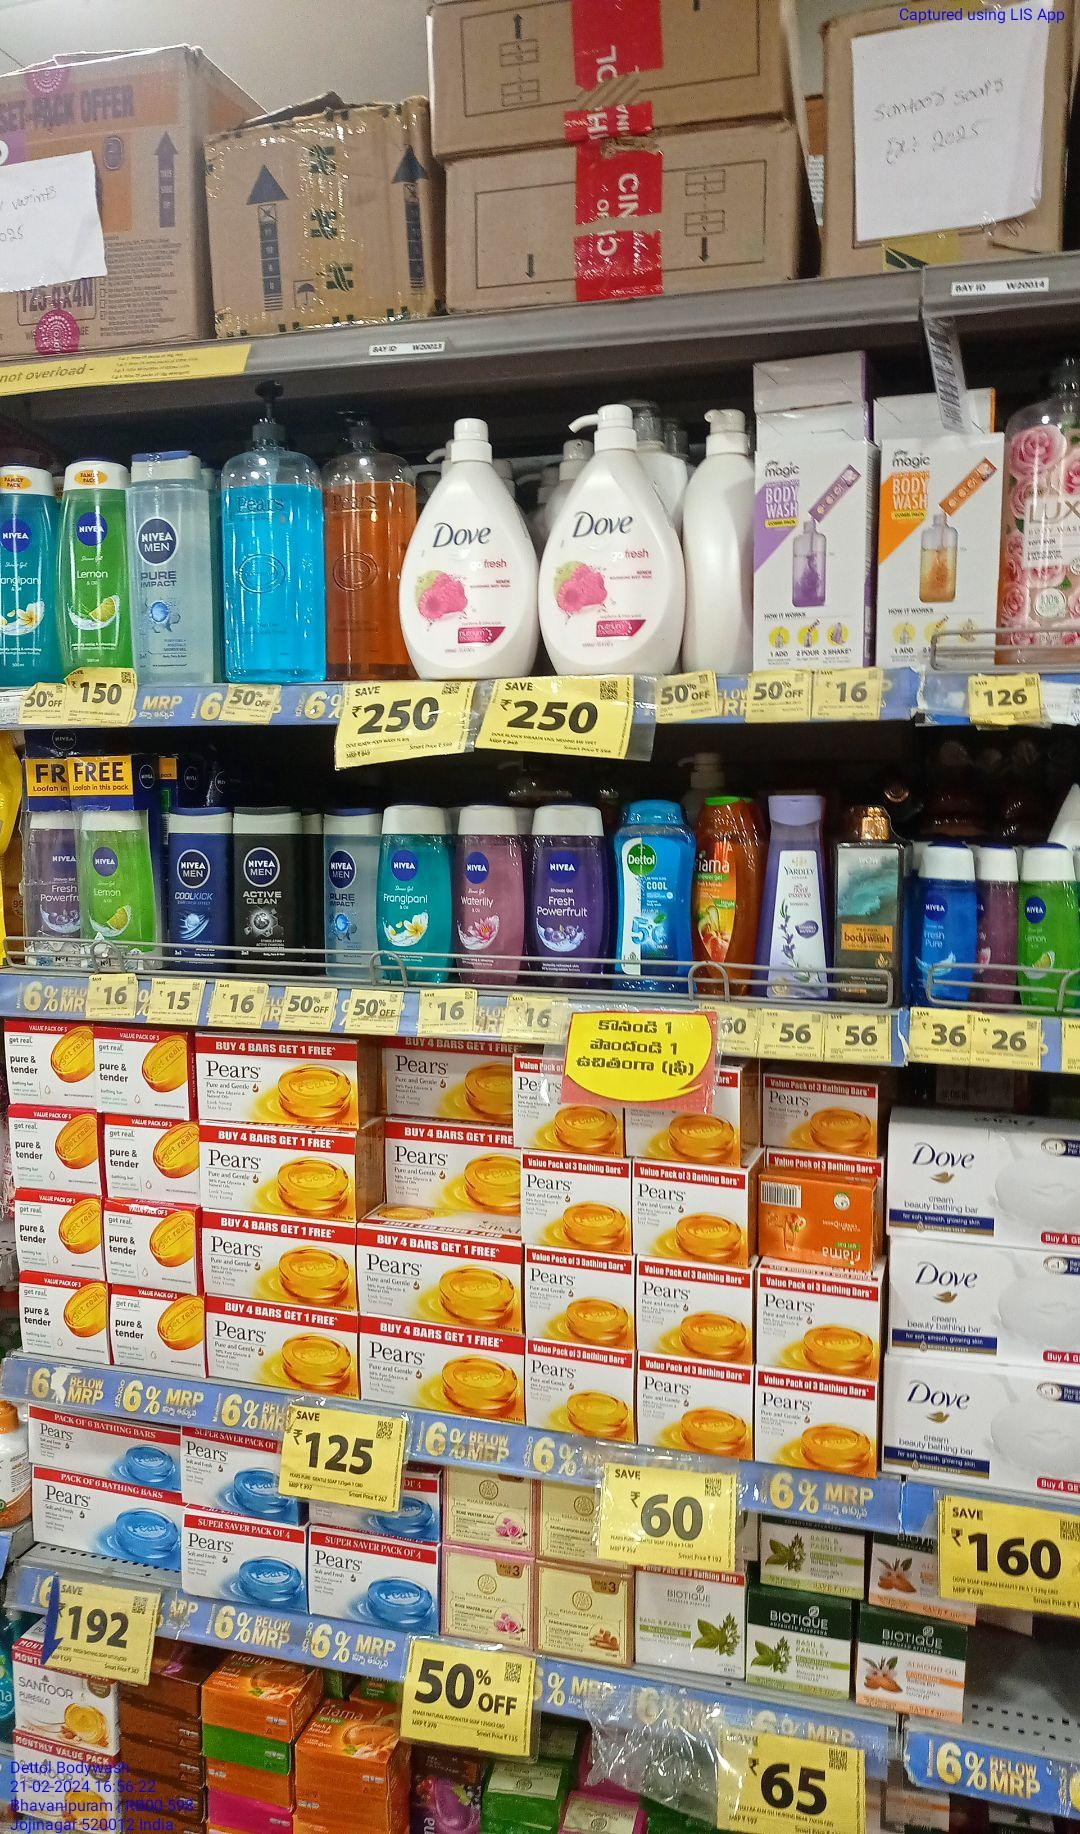Dettol_Bodywash_Cool: (609, 798, 698, 993)
Fiama_Shower_Gel_Peach_and_Avocado_250ML: (701, 792, 759, 997)
Nivea_Shower_Gel_Frangipani_and_Oil_250ML: (374, 802, 453, 986)
Nivea_Shower_Gel_Fresh_Powerfruit_250ML: (527, 799, 608, 988), (23, 812, 80, 968)
Nivea_Shower_Gel_Lemon_and_Oil_250ML: (80, 811, 157, 970)
Nivea_Shower_Gel_Waterlily_and_Oil_250ML: (451, 798, 527, 986)
